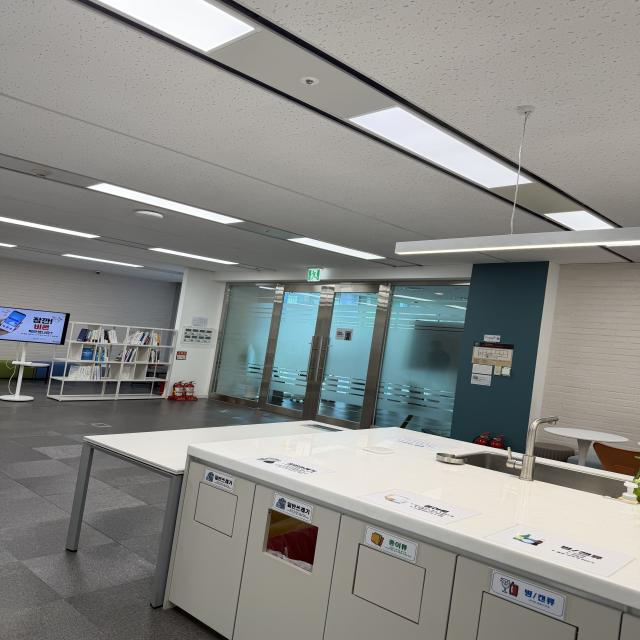front_door: (209, 267, 469, 439)
